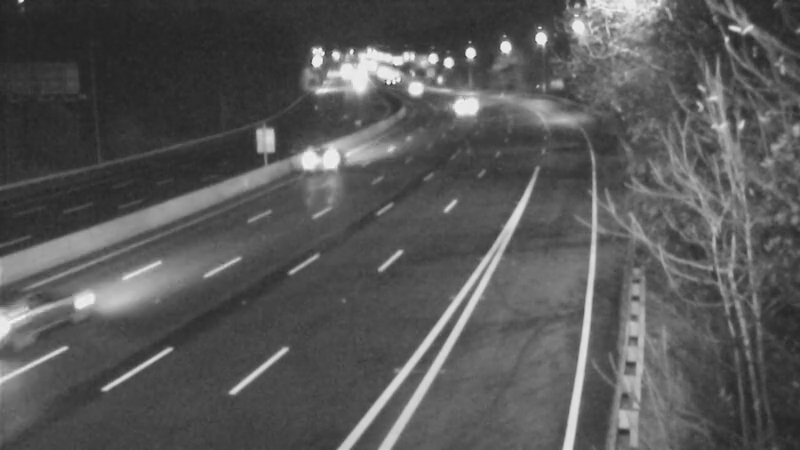vehicle: (1, 256, 103, 366), (281, 114, 361, 194), (387, 62, 437, 112), (436, 79, 486, 129)
